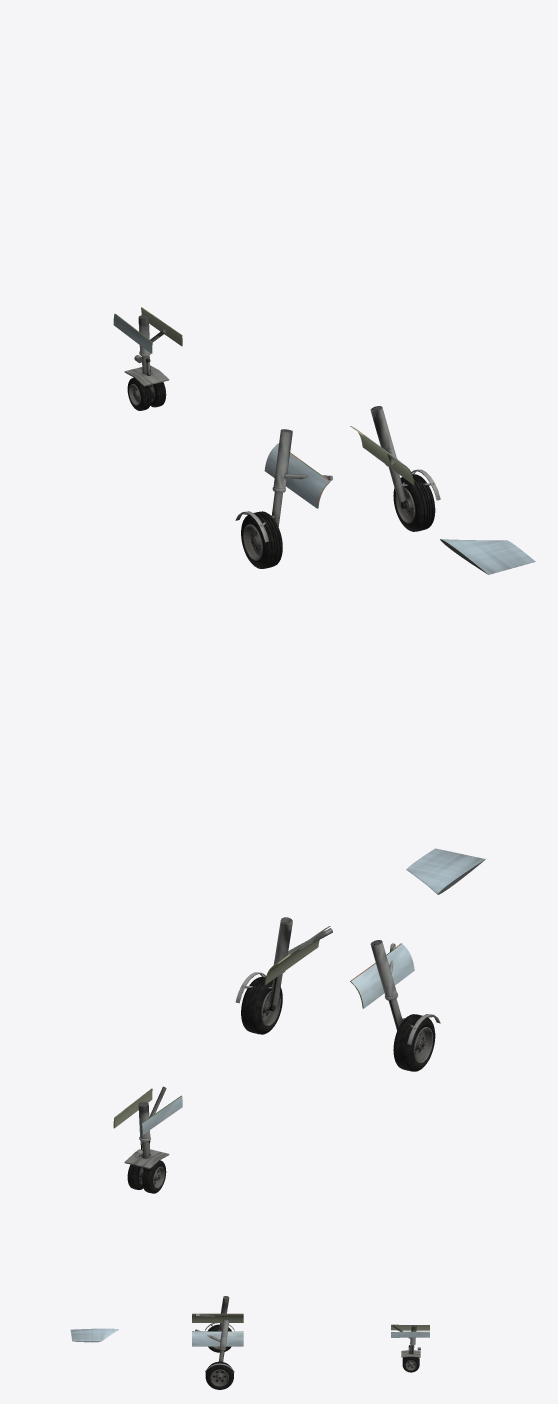
Rendered from mig27_gear.glb.
3 views of the same model, one above another, from view 1: azimuth 30°, elevation 25°; view 2: azimuth 150°, elevation 25°; view 3: azimuth 270°, elevation 25° (orthographic). The views are drawn at different scales.
Parts seen in each view (by area): view 1: gear_m_l, gear_m_r, gear_n, ventral_g, door_m_l_g, door_m_r_g; view 2: gear_m_l, gear_m_r, gear_n, ventral_g, door_m_l_g, door_m_r_g; view 3: gear_m_r, door_m_r_g, gear_n, ventral_g, door_m_l_g, gear_m_l, door_n_r_g.
Boxes of the visible parts, x1,y1,x2,y2 form: gear_m_l: (235,429,332,568); gear_m_r: (370,406,440,531); gear_n: (124,315,169,410); ventral_g: (440,539,535,574); door_m_l_g: (264,443,330,508); door_m_r_g: (350,426,414,485); gear_m_l: (370,940,440,1071); gear_m_r: (235,917,332,1034); gear_n: (124,1086,169,1193); ventral_g: (406,848,485,894); door_m_l_g: (350,943,414,1008); door_m_r_g: (264,926,330,984); gear_m_r: (195,1319,234,1389); door_m_r_g: (192,1331,243,1346); gear_n: (393,1324,420,1372); ventral_g: (70,1328,118,1342); door_m_l_g: (192,1313,243,1322); gear_m_l: (195,1296,234,1352); door_n_r_g: (391,1331,429,1337).
Bounding box in the file's own units: 3.18 × 5.13 × 16.65.
1 material, 1 textured.
